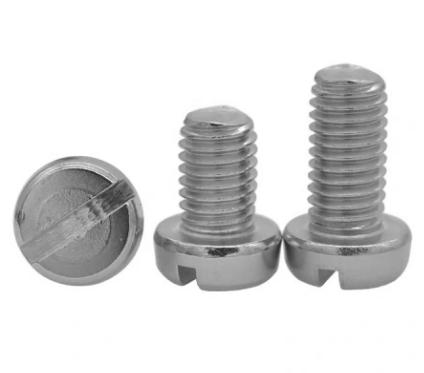screw: (14, 158, 144, 285)
